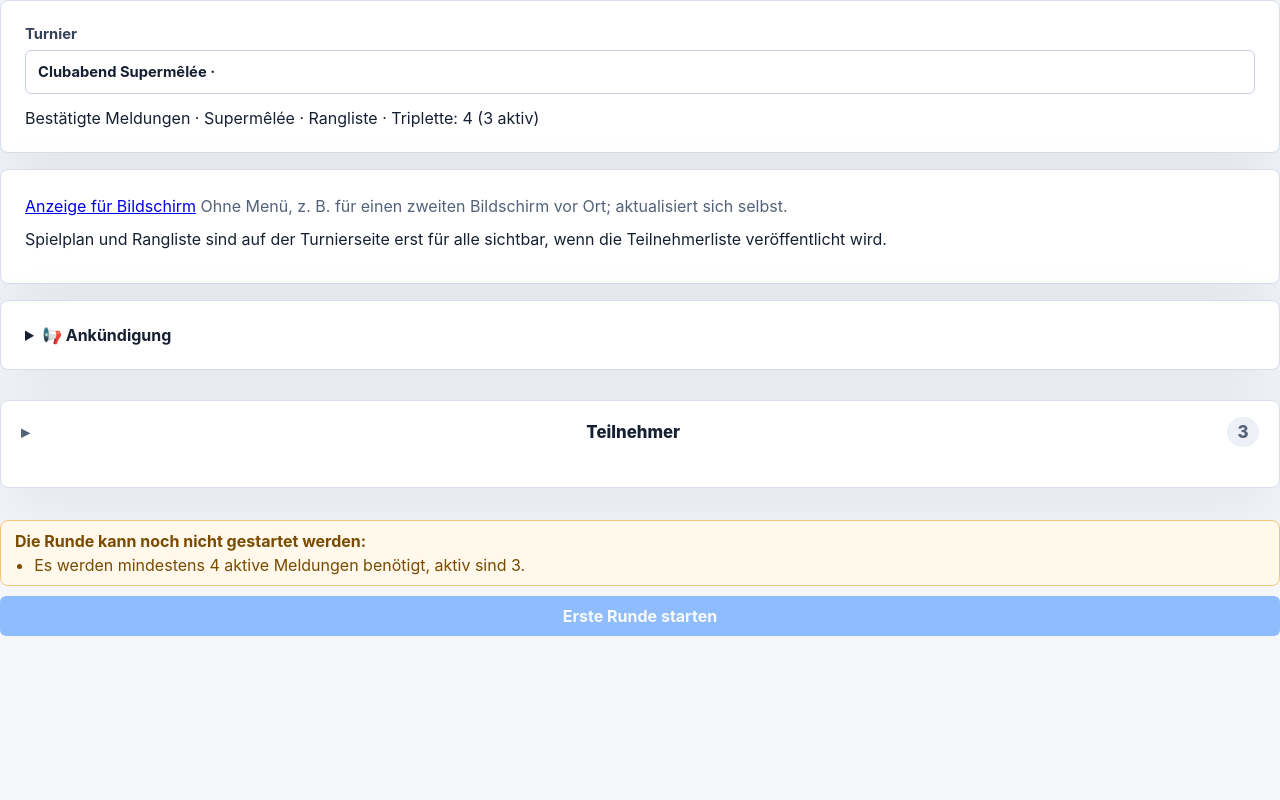
Test: TournamentPlayManagement › schließt inaktive Teilnehmer von der Mindestanzahl-Prüfung aus und erlaubt das Reaktivieren
The image size is (1280, 800).
Expected: the text "Bestätigte Meldungen · Supermêlée · Rangliste · Triplette: 4 (3 aktiv)" is shown, 25,108 -> 539,128
Expected: the list item "Es werden mindestens 4 aktive Meldungen benötigt, aktiv sind 3." is shown, 34,555 -> 525,575
Click the text "Teilnehmer": click(633, 432) 586,422 -> 680,442
(page scrolled)
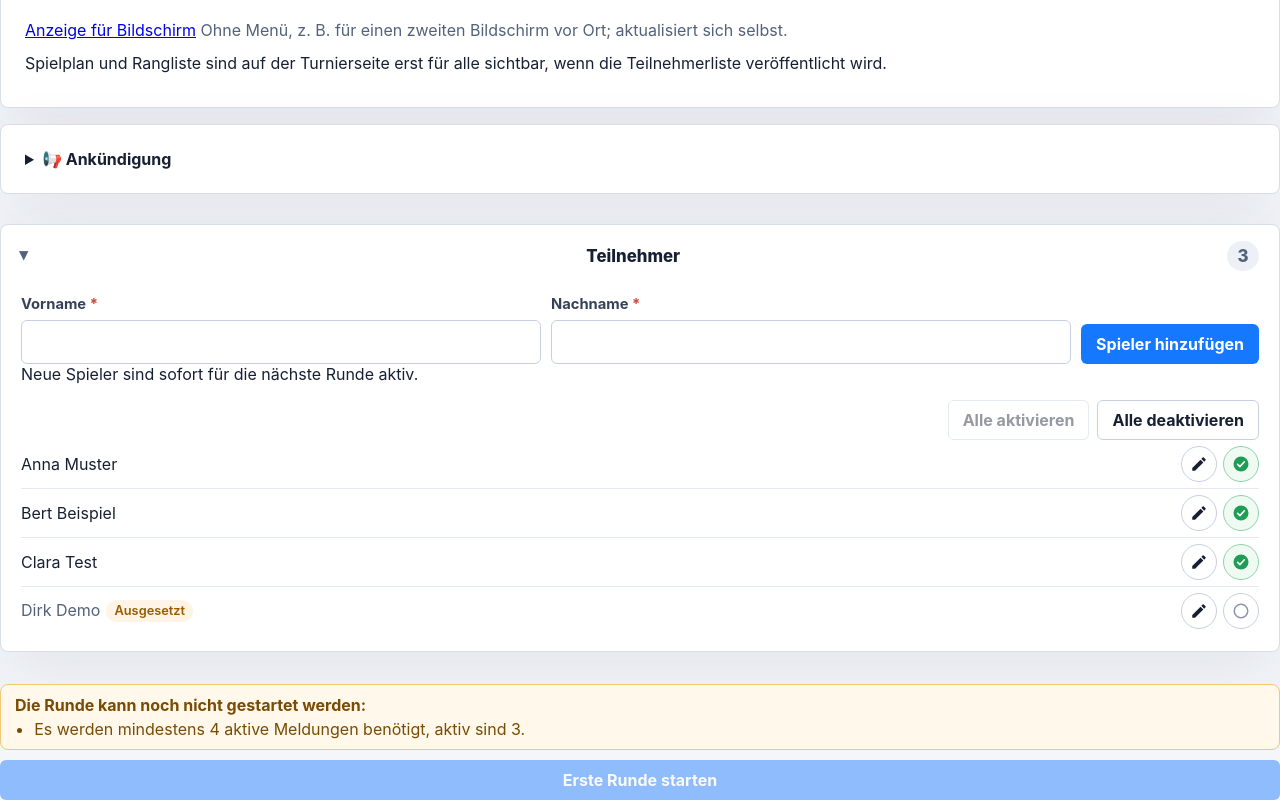
Note: Ausgesetzt → ein Tipp auf den Schalter macht die Meldung wieder aktiv.
Click the button named "Aktiv: Dirk Demo": click(1241, 611) 1223,593 -> 1259,629
(page scrolled)
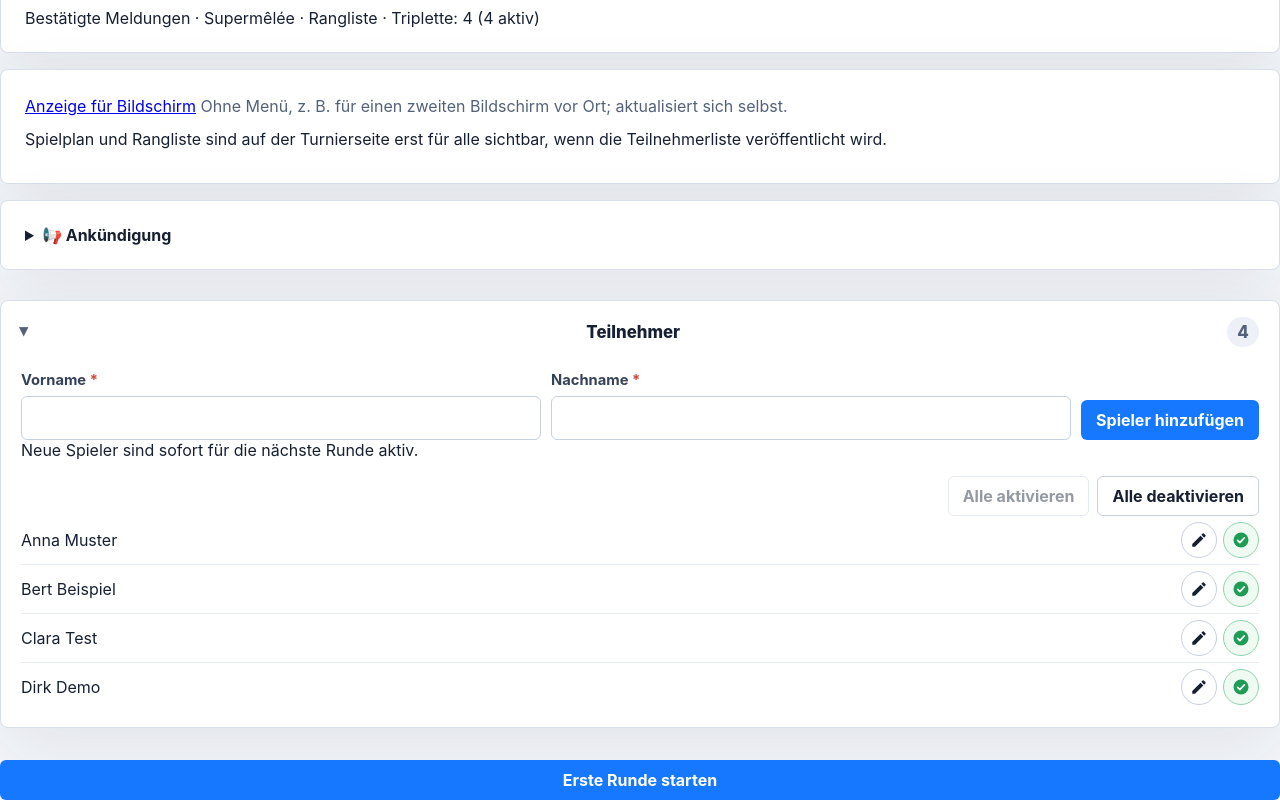
Result: the text "Bestätigte Meldungen · Supermêlée · Rangliste · Triplette: 4 (4 aktiv)" is shown at 25,8 -> 540,28
Result: the button "Erste Runde starten" is enabled at 0,760 -> 1279,799
